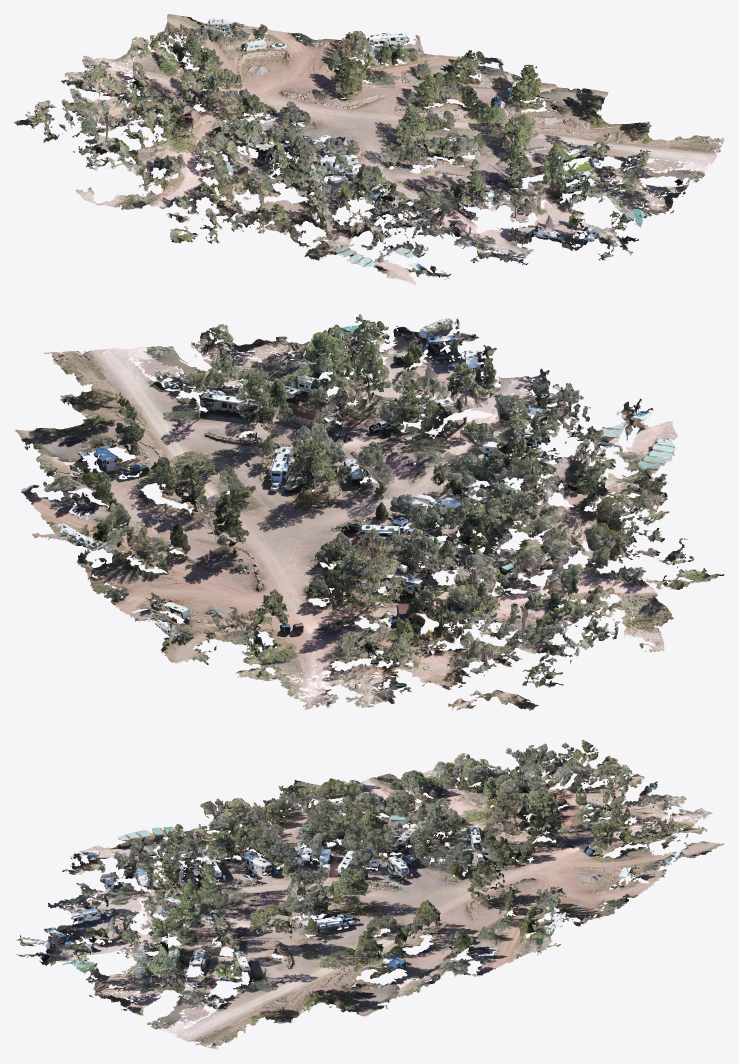
The model's file is flight_1k.glb.
3 views of the same model, one above another, from view 1: azimuth 30°, elevation 25°; view 2: azimuth 150°, elevation 25°; view 3: azimuth 270°, elevation 25° (orthographic). The views are drawn at different scales.
Parts seen in each view (by area): view 1: Node; view 2: Node; view 3: Node.
Part boxes in pixels (<box>): Node: <box>14,14,724,285</box>; Node: <box>14,314,724,710</box>; Node: <box>14,739,724,1049</box>.
Bounding box in the file's own units: 198 × 25.66 × 207.
113 materials, 113 textured.
